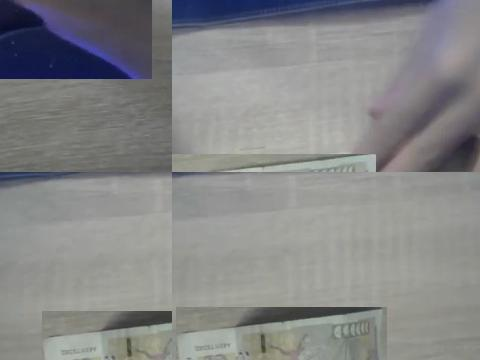10leva: (176, 307, 385, 360)
20leva: (14, 0, 152, 79)
